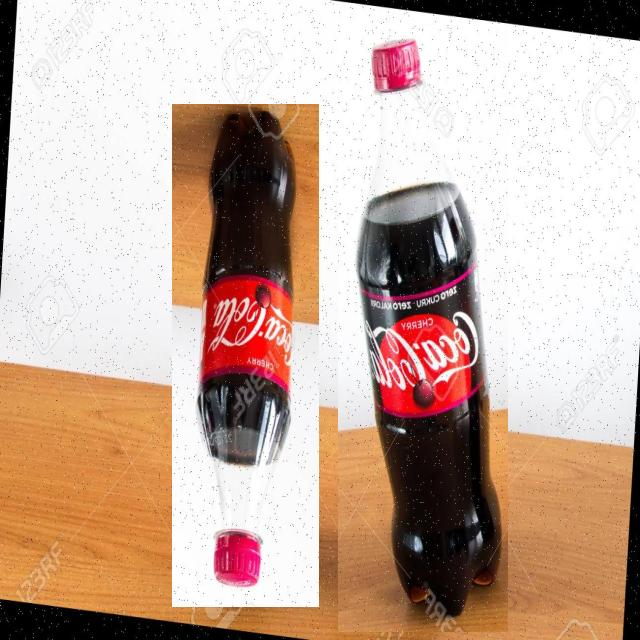coca-cola: (338, 25, 508, 632), (172, 104, 319, 607)
